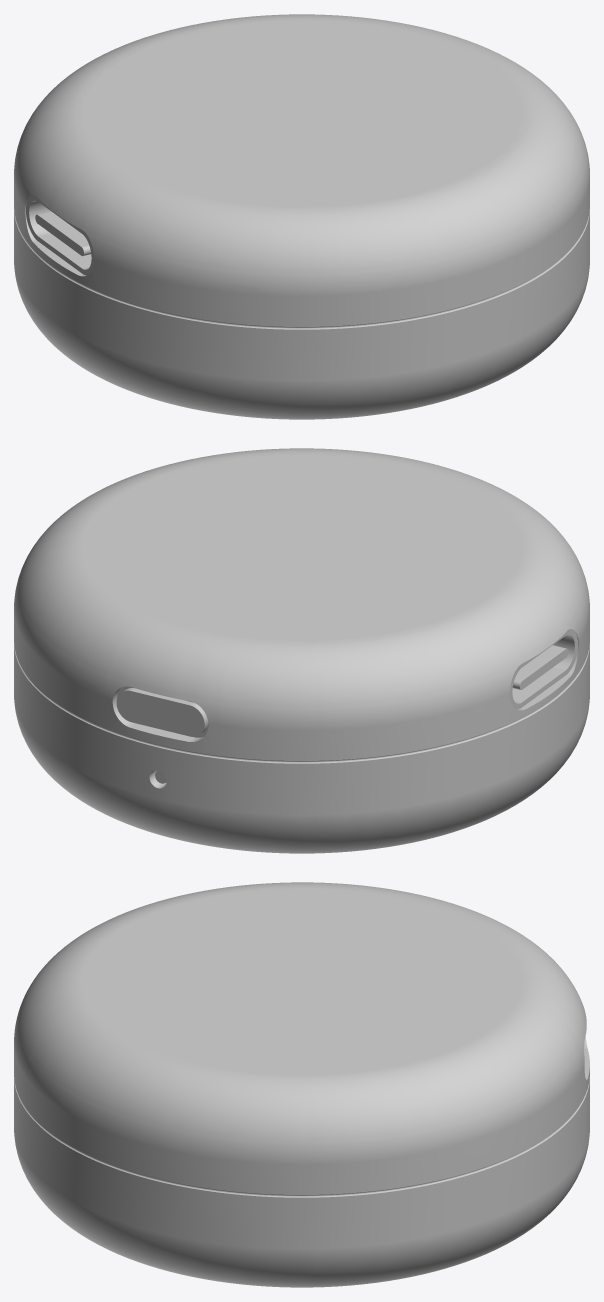
Rendered from pico_motion_tracker.obj.
3 renders of one model, top to bottom at view 1: azimuth 30°, elevation 25°; view 2: azimuth 150°, elevation 25°; view 3: azimuth 270°, elevation 25°, orthographic.
Visible parts, largest first — view 1: PICO_Tracker_APPROX; view 2: PICO_Tracker_APPROX; view 3: PICO_Tracker_APPROX.
Part boxes in pixels (<box>): PICO_Tracker_APPROX: <box>14,14,589,419</box>; PICO_Tracker_APPROX: <box>14,448,589,853</box>; PICO_Tracker_APPROX: <box>14,882,589,1287</box>.
Bounding box in the file's own units: 0.0385 × 0.0152 × 0.0385.
1 material, 1 textured.
